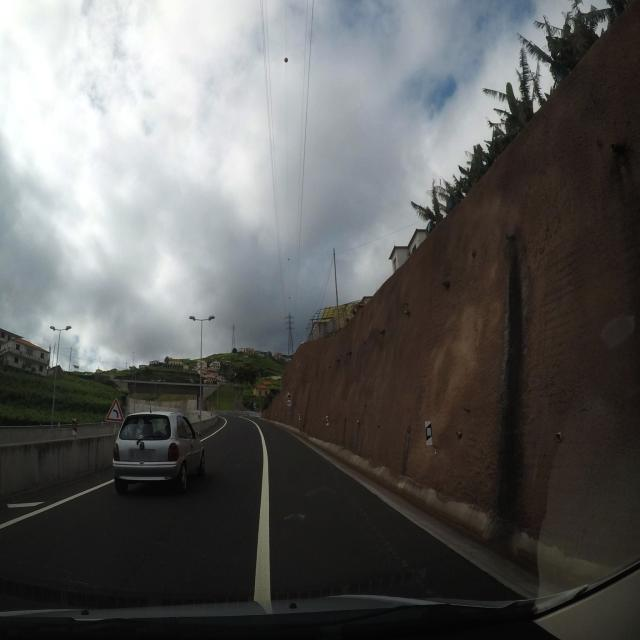car: (112, 411, 206, 494)
